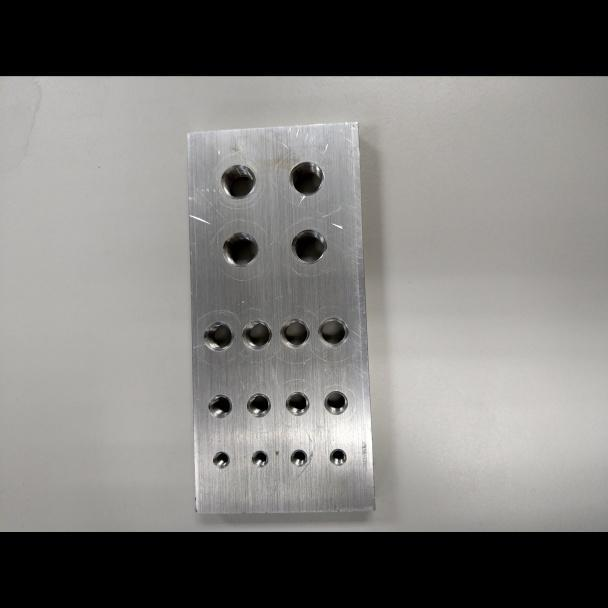hole: (221, 230, 259, 268), (290, 228, 327, 265), (220, 162, 256, 199), (288, 160, 325, 196), (317, 315, 349, 348), (203, 319, 234, 352), (279, 316, 310, 349), (241, 319, 272, 351), (207, 392, 232, 419), (246, 391, 271, 418), (285, 390, 310, 416), (323, 389, 348, 415), (211, 450, 229, 469), (250, 449, 268, 468), (289, 448, 307, 467), (329, 448, 346, 466)
